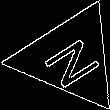N_NE: (35, 27, 105, 89)
